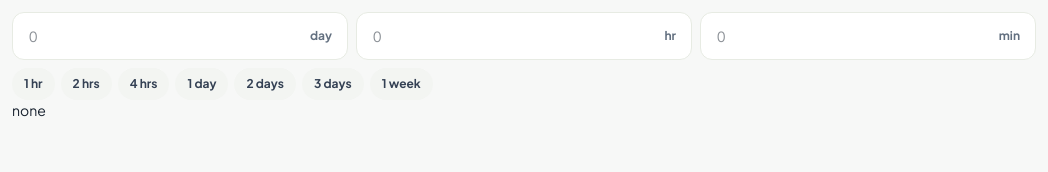
DurationInput for a job that may take days › turns days and hours into total minutes
This screenshot has width=1048, height=172.
Type "3" into the field named "Days" at (180, 36), box [12,12,348,60]
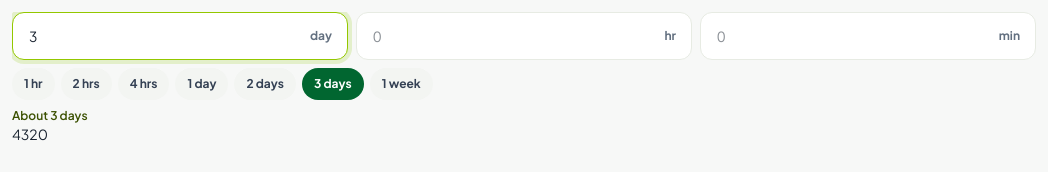
Type "4" into the field named "Hours" at (524, 36), box [356,12,692,60]
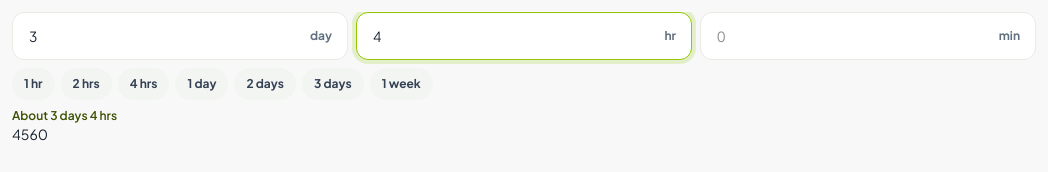
Result: the text "About 3 days 4 hrs" is shown at [12,108,117,123]
